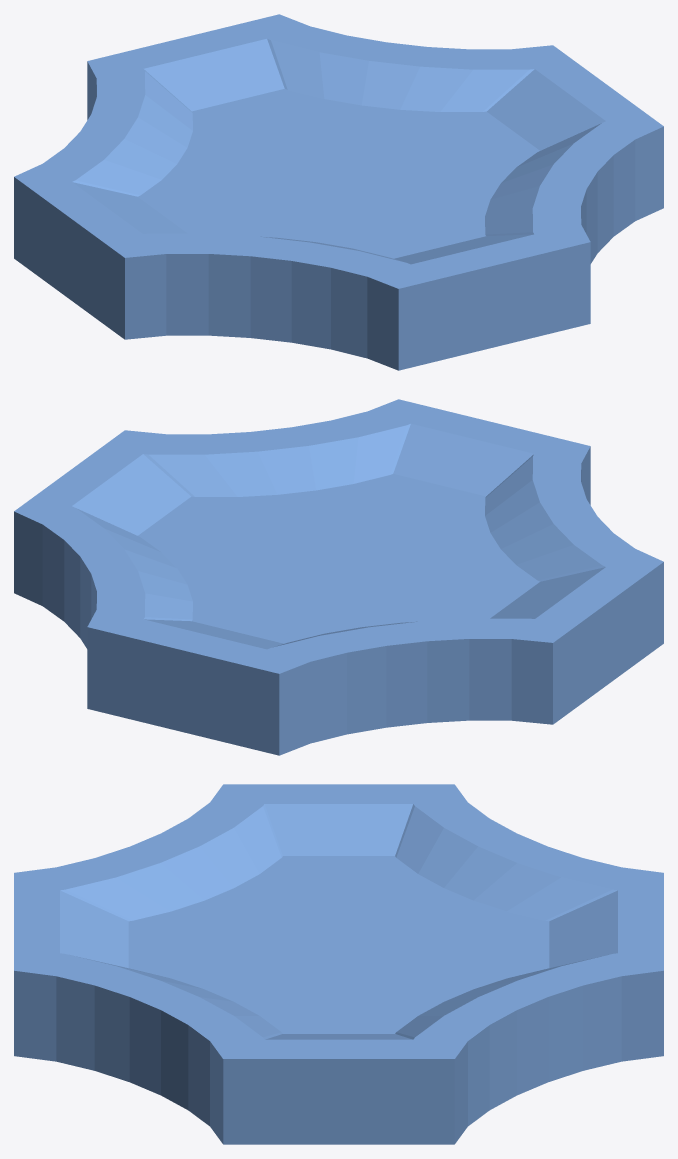
The model's file is baldosa1.glb.
3 renders of one model, top to bottom at view 1: azimuth 30°, elevation 25°; view 2: azimuth 150°, elevation 25°; view 3: azimuth 270°, elevation 25°, orthographic. The views are drawn at different scales.
Visible parts, largest first — view 1: Cubo.4981; view 2: Cubo.4981; view 3: Cubo.4981.
Part boxes in pixels (x1,y1,x2,y2): Cubo.4981: [14, 14, 663, 370]; Cubo.4981: [14, 399, 663, 755]; Cubo.4981: [14, 784, 663, 1144].
Size of the model in its own units: 2 by 0.29 by 2.
